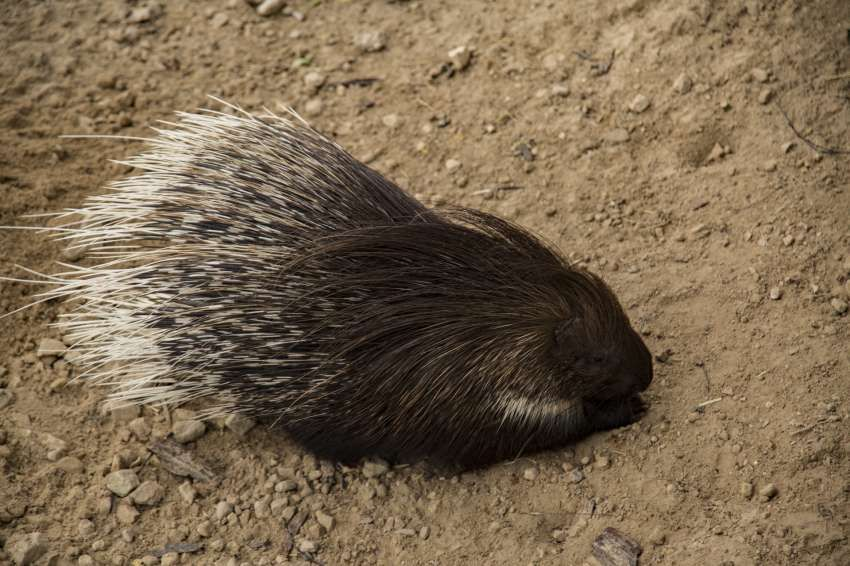porcupine: (10, 87, 666, 476)
